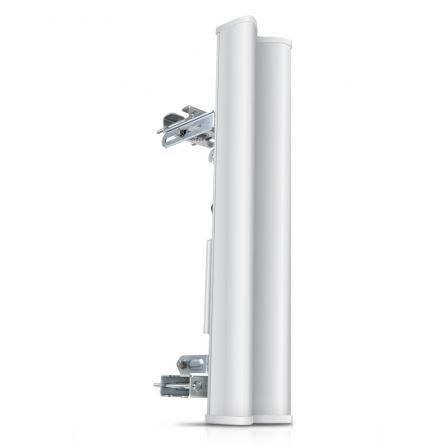sa: (169, 18, 307, 426)
